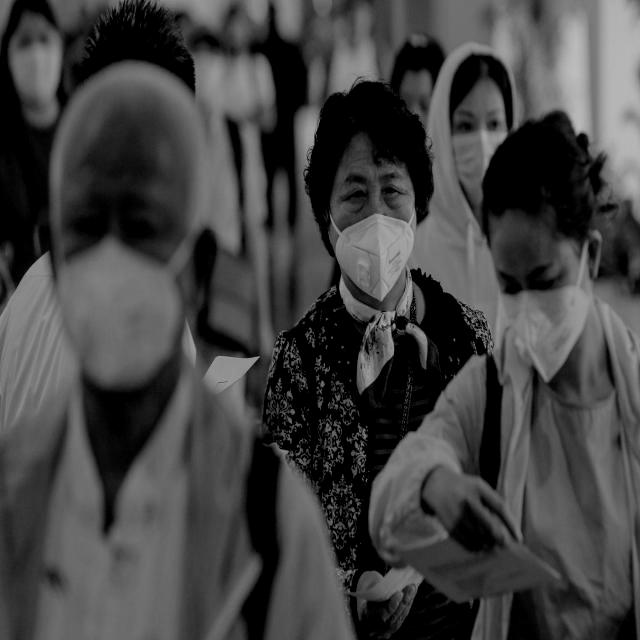real: (50, 85, 218, 391), (486, 200, 603, 378), (320, 129, 418, 294), (452, 79, 511, 197), (4, 18, 64, 106)
